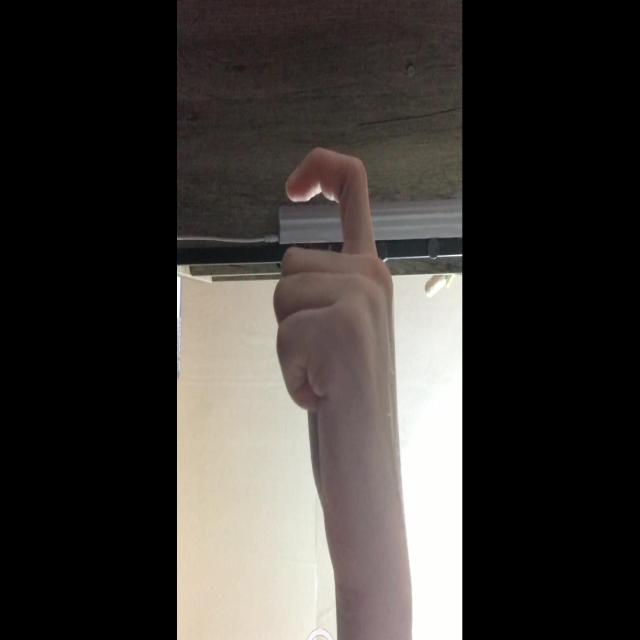X: (276, 143, 400, 544)
